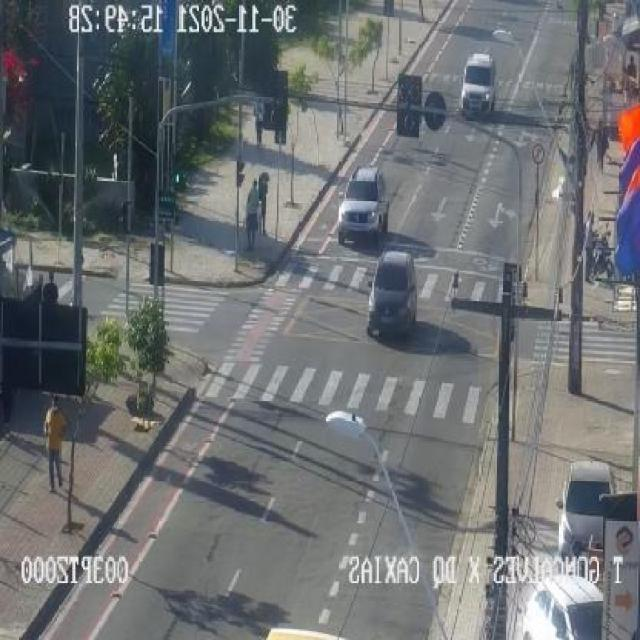Car: (556, 463, 614, 558), (518, 575, 604, 639), (367, 251, 417, 338), (338, 166, 388, 244), (458, 54, 496, 118)
